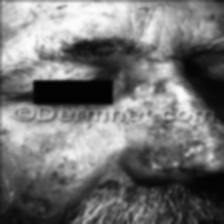Unclassified: (0, 125, 101, 212), (0, 0, 224, 29), (162, 128, 224, 160), (134, 76, 184, 106)
